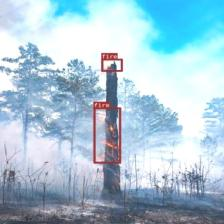fire: (93, 107, 121, 163), (100, 58, 122, 72)
